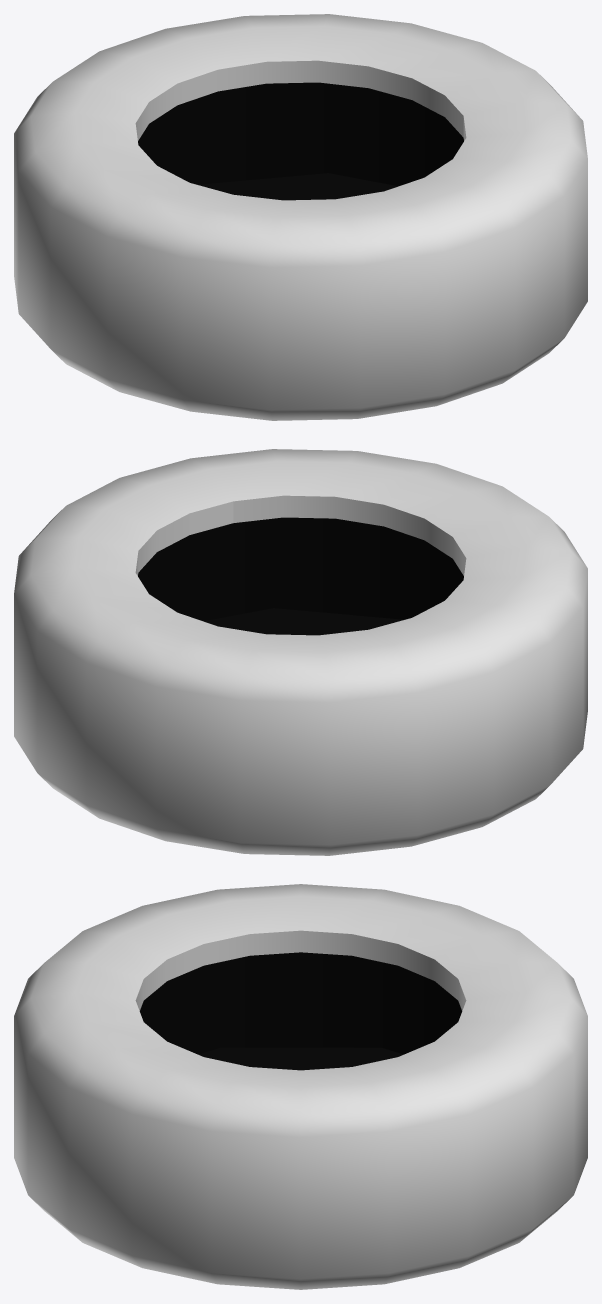
Rendered from prop_tyre_1x1_B.FBX.
The picture shows the model from 3 angles, top to bottom: view 1: azimuth 30°, elevation 25°; view 2: azimuth 150°, elevation 25°; view 3: azimuth 270°, elevation 25°; orthographic projection.
Visible parts, largest first — view 1: prop_tyre_2; view 2: prop_tyre_2; view 3: prop_tyre_2.
Boxes of the visible parts, x1,y1,x2,y2 form: prop_tyre_2: [14, 14, 587, 420]; prop_tyre_2: [14, 449, 587, 855]; prop_tyre_2: [14, 884, 587, 1289].
Size of the model in its own units: 33.16 by 12.12 by 33.16.
Materials: 1 (1 with a texture image).
